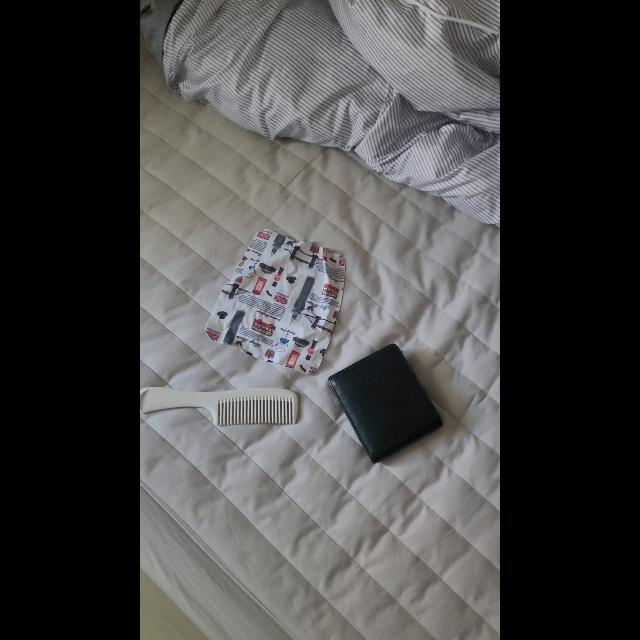COMB: (140, 387, 298, 427)
Glasses cleaning cloth: (204, 228, 346, 376)
WALLET: (328, 344, 442, 464)
